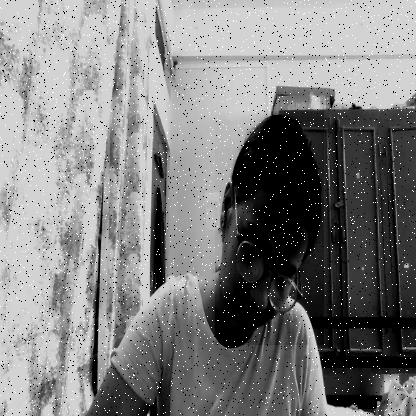Distracted: (215, 111, 324, 345)
